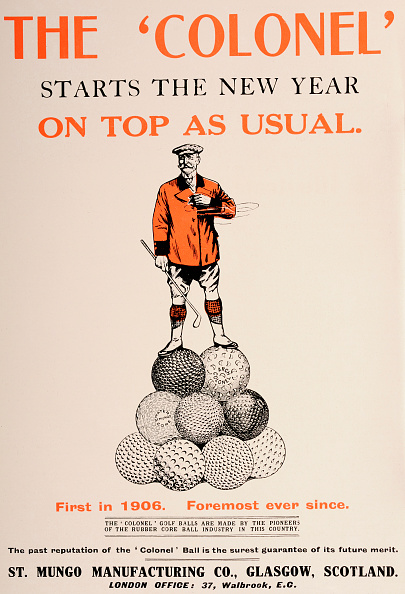em pe: (142, 133, 237, 368)
